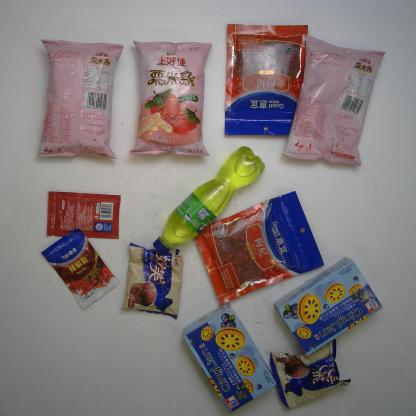Dessert: (273, 256, 386, 358), (182, 302, 281, 414), (268, 340, 354, 411), (120, 240, 184, 319)
Dried Fruit: (193, 190, 326, 305), (221, 22, 311, 138)
Drink: (151, 144, 266, 255)
Puffed Food: (280, 33, 388, 168), (35, 37, 124, 161), (128, 36, 214, 159)
Seasoner: (40, 227, 121, 312), (43, 190, 124, 240)
